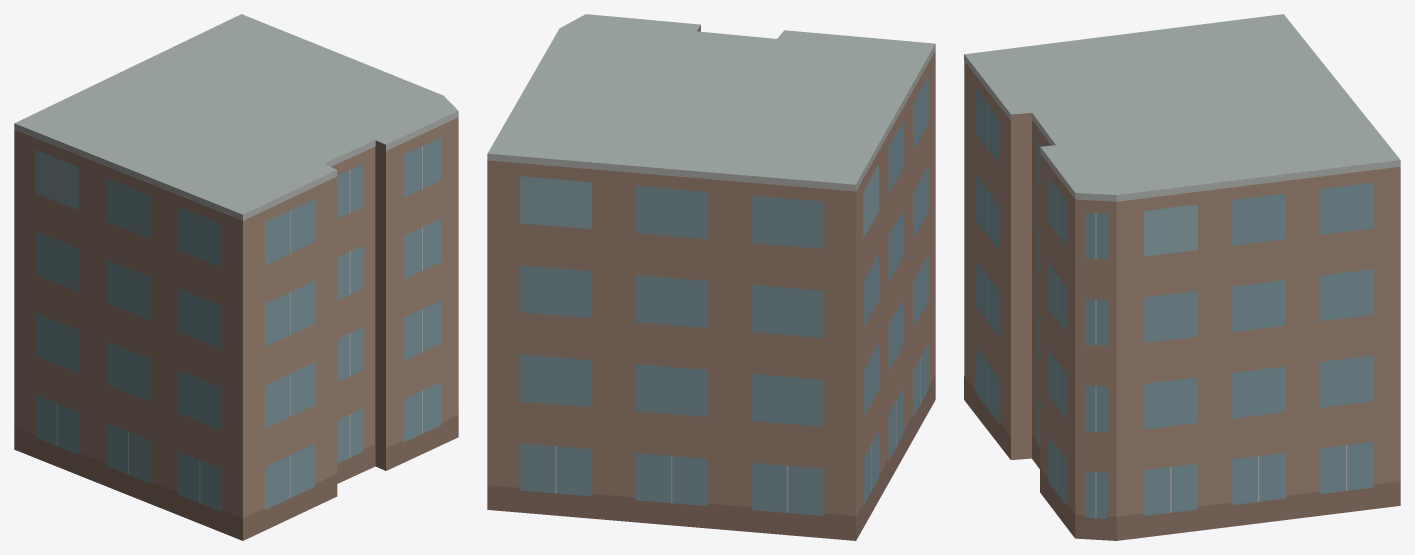
The model's file is survey-upis-32749282.glb.
The picture shows the model from 3 angles, left to right: view 1: azimuth 30°, elevation 25°; view 2: azimuth 150°, elevation 25°; view 3: azimuth 270°, elevation 25°; orthographic projection. The views are drawn at different scales.
Visible parts, largest first — view 1: survey-upis-32749282.tmp; view 2: survey-upis-32749282.tmp; view 3: survey-upis-32749282.tmp.
Part boxes in pixels (x1,y1,x2,y2): survey-upis-32749282.tmp: (14, 14, 458, 540); survey-upis-32749282.tmp: (487, 14, 935, 540); survey-upis-32749282.tmp: (964, 14, 1400, 540).
Size of the model in its own units: 14.34 by 12.75 by 14.6.
